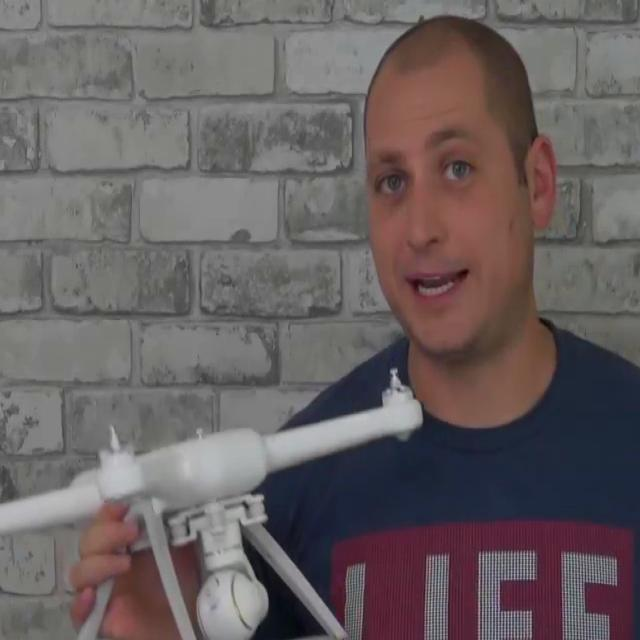drone: (0, 363, 441, 584)
